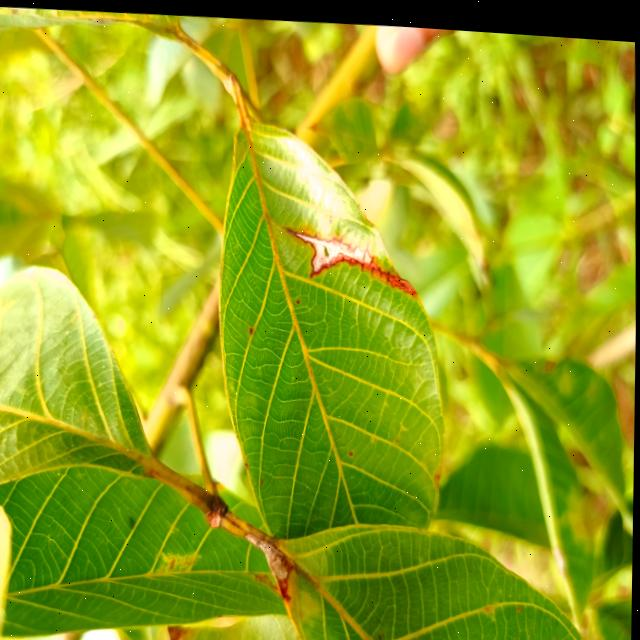Colletotrichum: (350, 445, 354, 449), (297, 294, 300, 298)
Corynespora: (284, 219, 418, 291)
Leaf-Blight: (250, 530, 291, 577)
